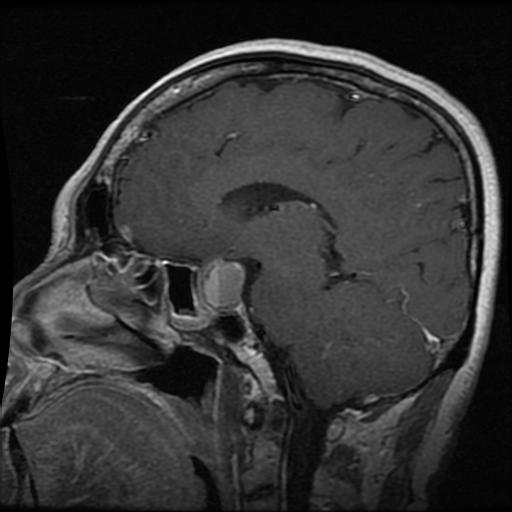Pituirity_tumour: (202, 259, 243, 304)
